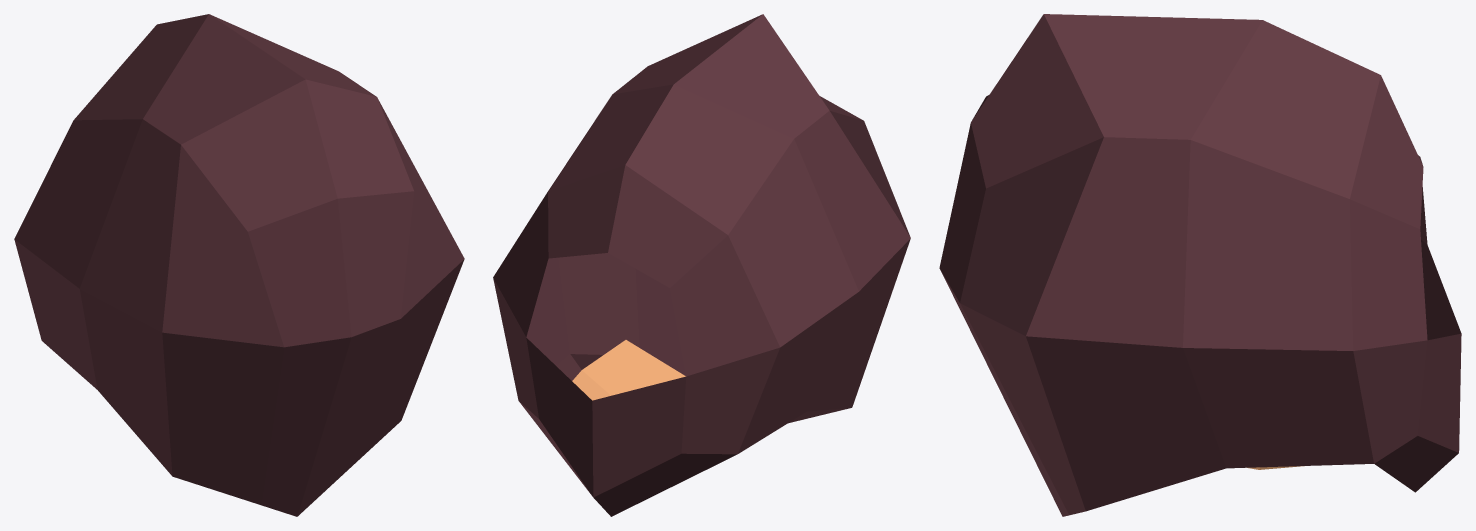
Rendered from head_footballfbx.fbx.
3 views of the same model, side by side, from view 1: azimuth 30°, elevation 25°; view 2: azimuth 150°, elevation 25°; view 3: azimuth 270°, elevation 25° (orthographic). The views are drawn at different scales.
Visible parts, largest first — view 1: man-football; view 2: man-football; view 3: man-football.
Part boxes in pixels (<box>): man-football: <box>14,14,464,516</box>; man-football: <box>493,14,910,516</box>; man-football: <box>939,14,1461,516</box>.
Bounding box in the file's own units: 240 × 310 × 291.
